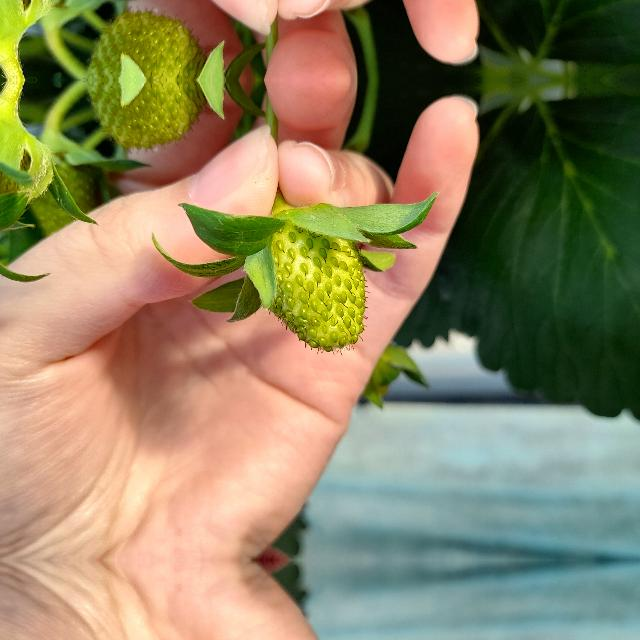Health_25: (262, 220, 366, 352)
